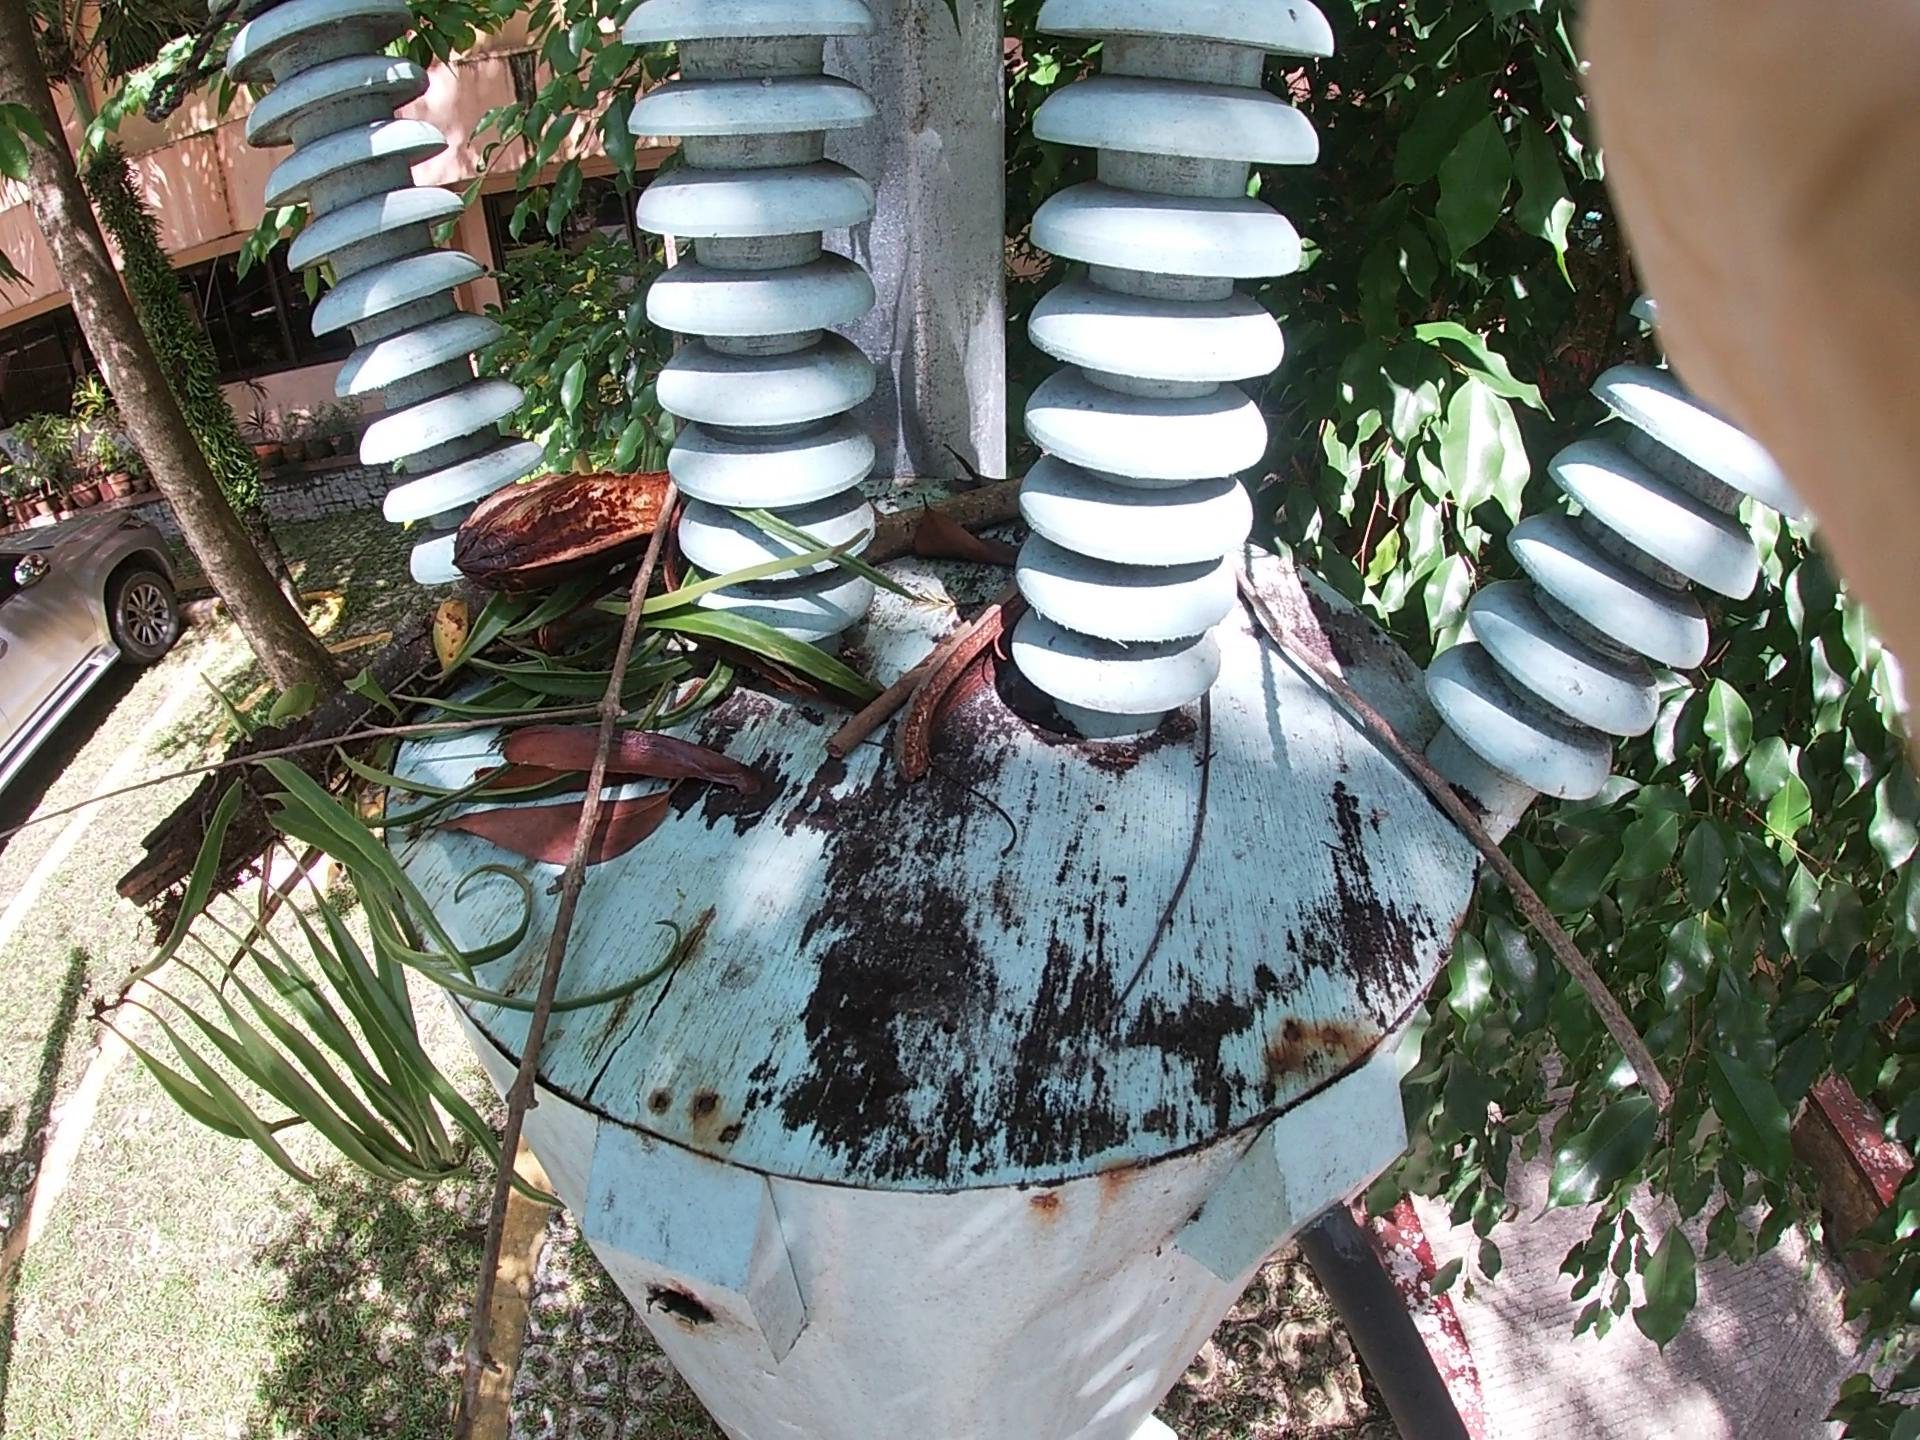branch with leaves: (110, 422, 1185, 920)
leaf: (470, 722, 658, 917), (887, 476, 993, 620)
mahogany fruit: (401, 375, 714, 602), (892, 532, 1057, 796)
tree branch: (231, 422, 812, 1004), (428, 455, 661, 1352), (1361, 611, 1633, 1075), (825, 502, 1305, 743)
